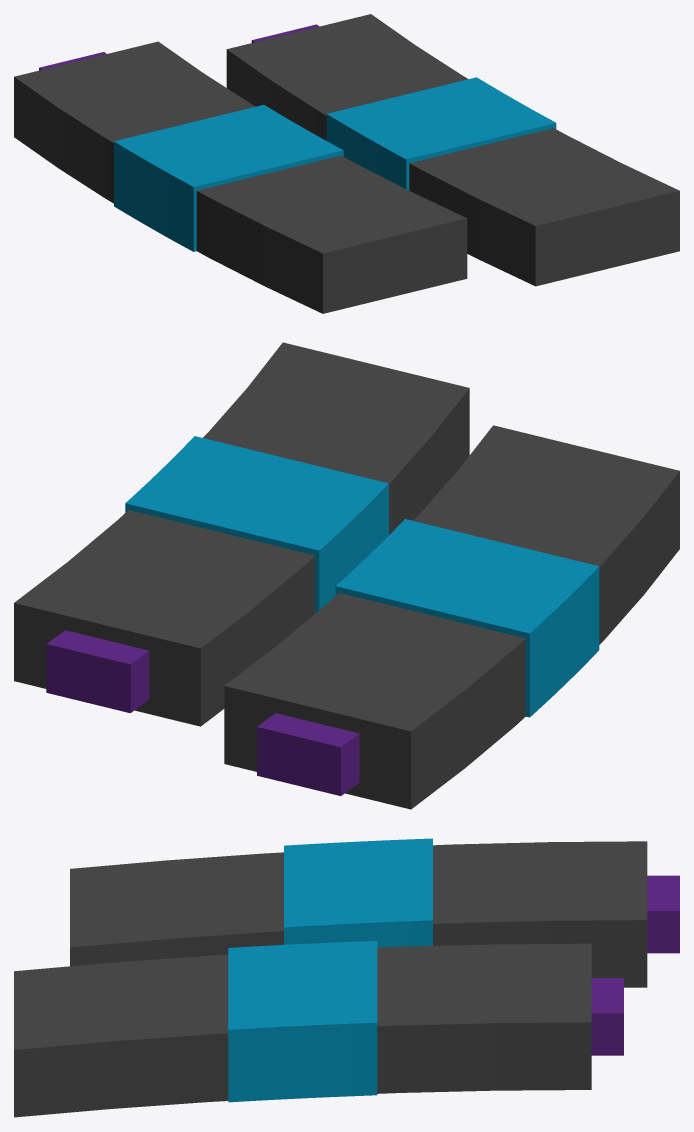
Rendered from ce_ammo_rifle_inc_b.obj.
3 views of the same model, one above another, from view 1: azimuth 30°, elevation 25°; view 2: azimuth 150°, elevation 25°; view 3: azimuth 270°, elevation 25° (orthographic). The views are drawn at different scales.
Parts seen in each view (by area): view 1: ce_ammo_rifle_inc_b_0, ce_ammo_rifle_inc_b_3, ce_ammo_rifle_inc_b_1, ce_ammo_rifle_inc_b_4; view 2: ce_ammo_rifle_inc_b_0, ce_ammo_rifle_inc_b_3, ce_ammo_rifle_inc_b_1, ce_ammo_rifle_inc_b_4, ce_ammo_rifle_inc_b_5, ce_ammo_rifle_inc_b_2; view 3: ce_ammo_rifle_inc_b_3, ce_ammo_rifle_inc_b_0, ce_ammo_rifle_inc_b_4, ce_ammo_rifle_inc_b_1, ce_ammo_rifle_inc_b_2, ce_ammo_rifle_inc_b_5.
Boxes of the visible parts, bbox=[...] form: ce_ammo_rifle_inc_b_0: bbox=[14, 41, 467, 313]; ce_ammo_rifle_inc_b_3: bbox=[226, 14, 679, 286]; ce_ammo_rifle_inc_b_1: bbox=[114, 105, 343, 251]; ce_ammo_rifle_inc_b_4: bbox=[326, 77, 556, 190]; ce_ammo_rifle_inc_b_0: bbox=[224, 425, 679, 809]; ce_ammo_rifle_inc_b_3: bbox=[14, 342, 469, 726]; ce_ammo_rifle_inc_b_1: bbox=[335, 519, 599, 717]; ce_ammo_rifle_inc_b_4: bbox=[125, 436, 388, 613]; ce_ammo_rifle_inc_b_5: bbox=[46, 630, 149, 713]; ce_ammo_rifle_inc_b_2: bbox=[257, 713, 359, 795]; ce_ammo_rifle_inc_b_3: bbox=[14, 943, 591, 1117]; ce_ammo_rifle_inc_b_0: bbox=[70, 841, 647, 987]; ce_ammo_rifle_inc_b_4: bbox=[228, 941, 377, 1102]; ce_ammo_rifle_inc_b_1: bbox=[284, 838, 432, 947]; ce_ammo_rifle_inc_b_2: bbox=[647, 875, 679, 953]; ce_ammo_rifle_inc_b_5: bbox=[591, 978, 623, 1055].
Size of the model in its own units: 0.53 by 0.086 by 0.715.
